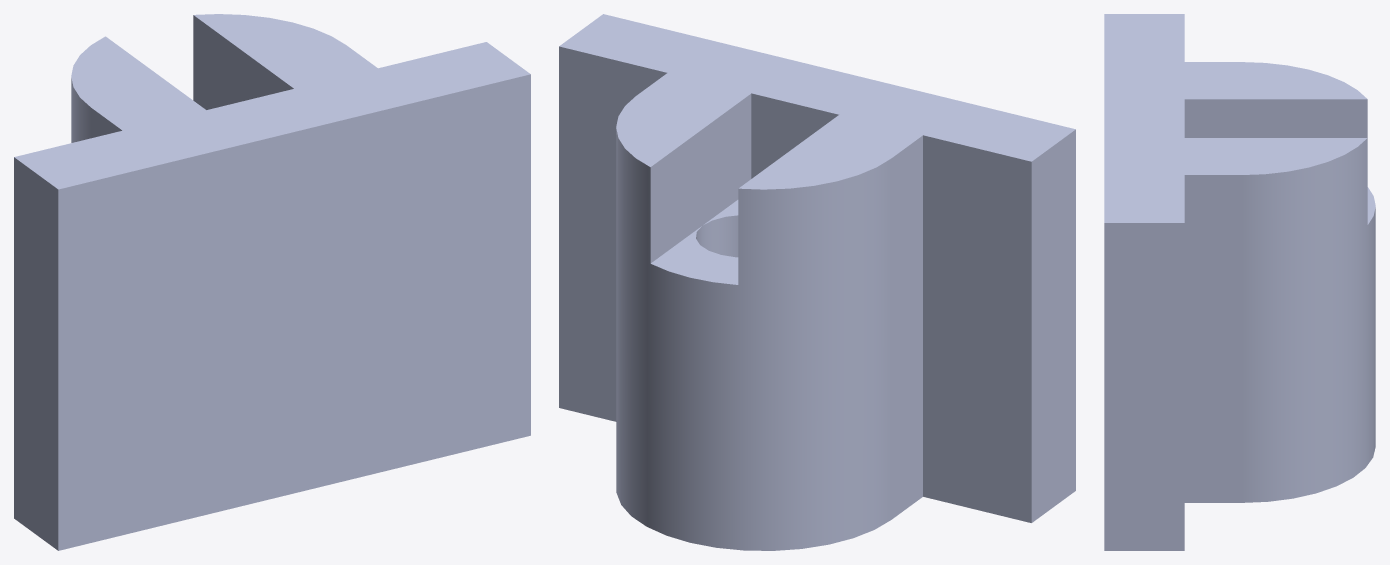
The model's file is lead_plate_support.FBX.
3 renders of one model, left to right at view 1: azimuth 30°, elevation 25°; view 2: azimuth 150°, elevation 25°; view 3: azimuth 270°, elevation 25°, orthographic. The views are drawn at different scales.
Visible parts, largest first — view 1: stitch_result_stitch all; view 2: stitch_result_stitch all; view 3: stitch_result_stitch all.
Boxes of the visible parts, x1,y1,x2,y2 form: stitch_result_stitch all: (14, 14, 530, 550); stitch_result_stitch all: (559, 14, 1075, 550); stitch_result_stitch all: (1104, 14, 1375, 550).
Size of the model in its own units: 1.7 by 1.24 by 0.9311.
